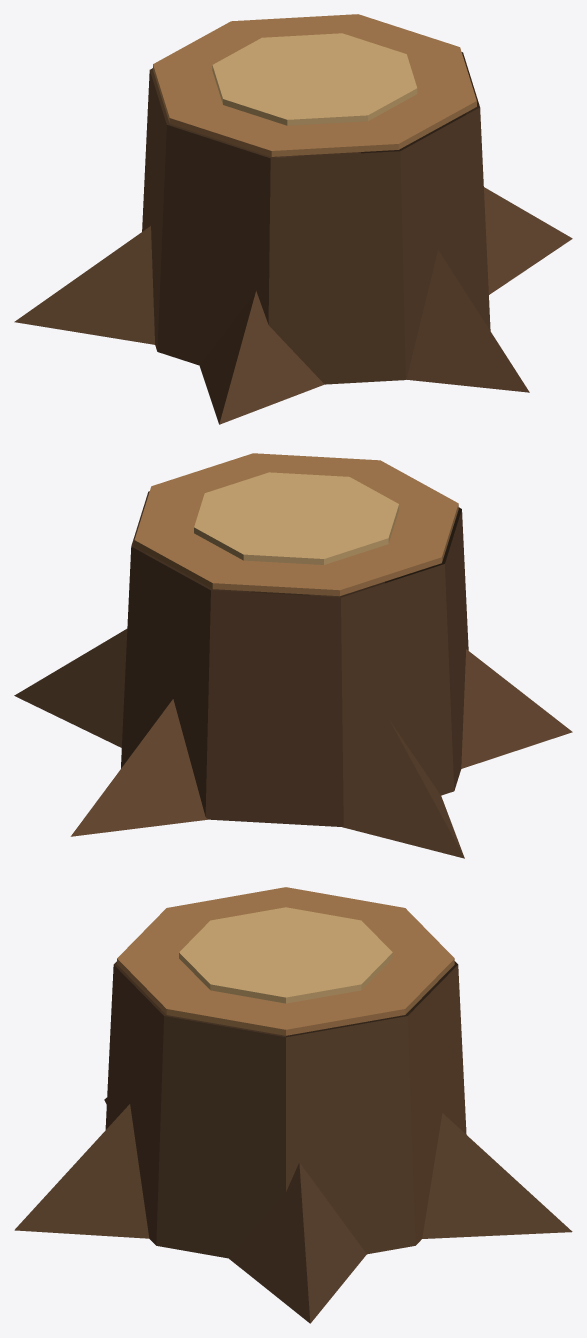
File: oak_stump.glb
3 views of the same model, one above another, from view 1: azimuth 30°, elevation 25°; view 2: azimuth 150°, elevation 25°; view 3: azimuth 270°, elevation 25° (orthographic).
Parts seen in each view (by area): view 1: oak_stump; view 2: oak_stump; view 3: oak_stump.
Boxes of the visible parts, x1=… form: oak_stump: x1=14, y1=14, x2=572, y2=424; oak_stump: x1=14, y1=453, x2=572, y2=858; oak_stump: x1=14, y1=887, x2=572, y2=1323.
Size of the model in its own units: 1.06 by 0.474 by 1.01.
1 material, 1 textured.
